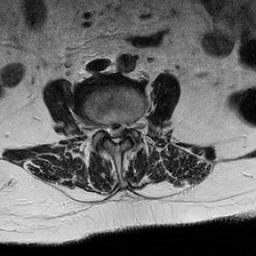CCS_severe_stenosis: (113, 118, 120, 149)
LFS_stenosis: (126, 117, 133, 136)
LLS_stenosis: (120, 118, 126, 139)
RFS_stenosis: (98, 118, 106, 139)
RLS_stenosis: (106, 120, 113, 138)
